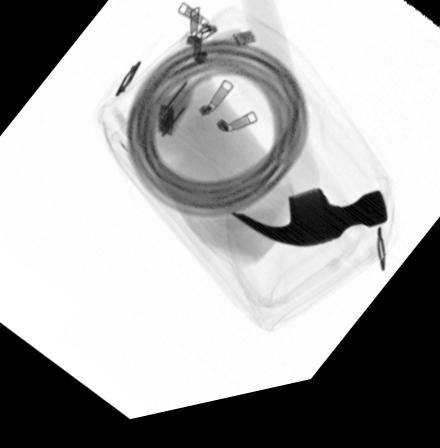Hammer: (227, 0, 388, 261)
